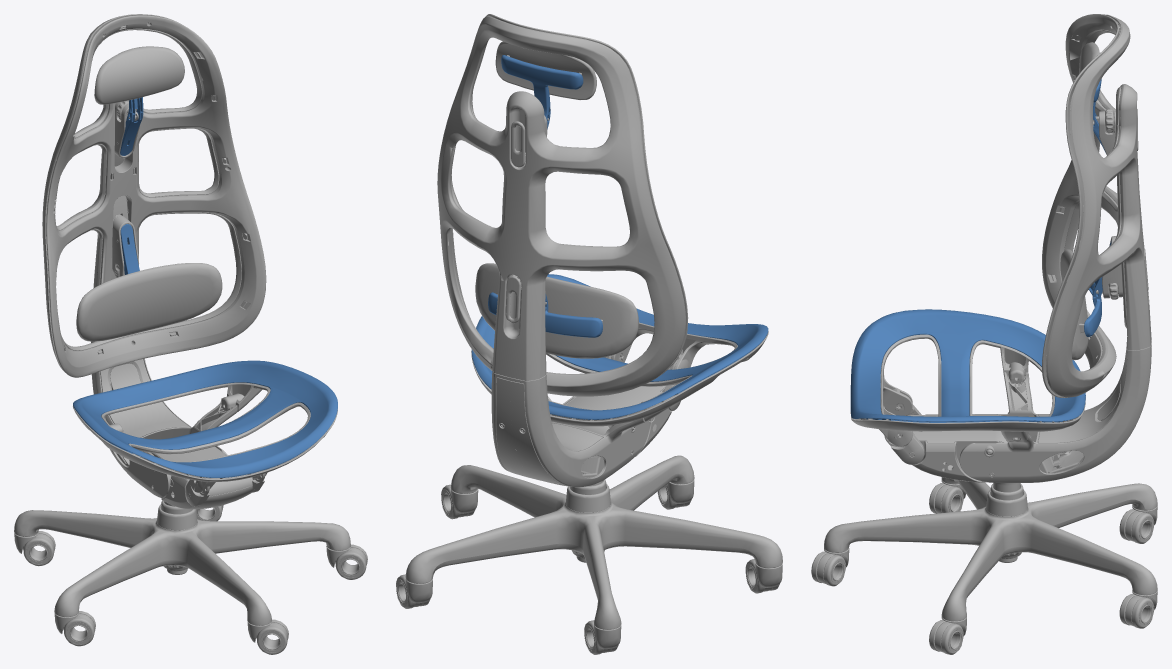
Rendered from chair_armless_blue_v2.glb.
The picture shows the model from 3 angles, left to right: view 1: azimuth 30°, elevation 25°; view 2: azimuth 150°, elevation 25°; view 3: azimuth 270°, elevation 25°; orthographic projection. The views are drawn at different scales.
Parts seen in each view (by area): view 1: GRUPPO_SCHIENALE, 5S_BASE, SEDILE, Mesh_32, Mesh_37, ASSIEME_REGOLAZIONI_SCHIENALE, BB-MECC_E_SEDILE; view 2: GRUPPO_SCHIENALE, 5S_BASE, SEDILE, Mesh_32, ASSIEME_REGOLAZIONI_SCHIENALE, Mesh_37, BB-MECC_E_SEDILE; view 3: GRUPPO_SCHIENALE, 5S_BASE, SEDILE, BB-MECC_E_SEDILE, ASSIEME_REGOLAZIONI_SCHIENALE, Mesh_32.
Part boxes in pixels (x1=…): GRUPPO_SCHIENALE: x1=42, y1=14, x2=266, y2=497; 5S_BASE: x1=14, y1=491, x2=367, y2=654; SEDILE: x1=73, y1=360, x2=337, y2=492; Mesh_32: x1=76, y1=263, x2=222, y2=341; Mesh_37: x1=94, y1=46, x2=184, y2=104; ASSIEME_REGOLAZIONI_SCHIENALE: x1=112, y1=97, x2=143, y2=277; BB-MECC_E_SEDILE: x1=151, y1=446, x2=265, y2=509; GRUPPO_SCHIENALE: x1=437, y1=14, x2=688, y2=487; 5S_BASE: x1=396, y1=455, x2=782, y2=654; SEDILE: x1=471, y1=274, x2=768, y2=426; Mesh_32: x1=475, y1=263, x2=638, y2=358; ASSIEME_REGOLAZIONI_SCHIENALE: x1=488, y1=55, x2=602, y2=337; Mesh_37: x1=495, y1=41, x2=596, y2=100; BB-MECC_E_SEDILE: x1=555, y1=355, x2=680, y2=456; GRUPPO_SCHIENALE: x1=959, y1=14, x2=1151, y2=482; 5S_BASE: x1=811, y1=477, x2=1157, y2=654; SEDILE: x1=850, y1=309, x2=1085, y2=446; BB-MECC_E_SEDILE: x1=884, y1=404, x2=1007, y2=482; ASSIEME_REGOLAZIONI_SCHIENALE: x1=1084, y1=79, x2=1148, y2=336; Mesh_32: x1=1060, y1=249, x2=1088, y2=360.
Bounding box in the file's own units: 0.7525 × 1.25 × 0.7114.
